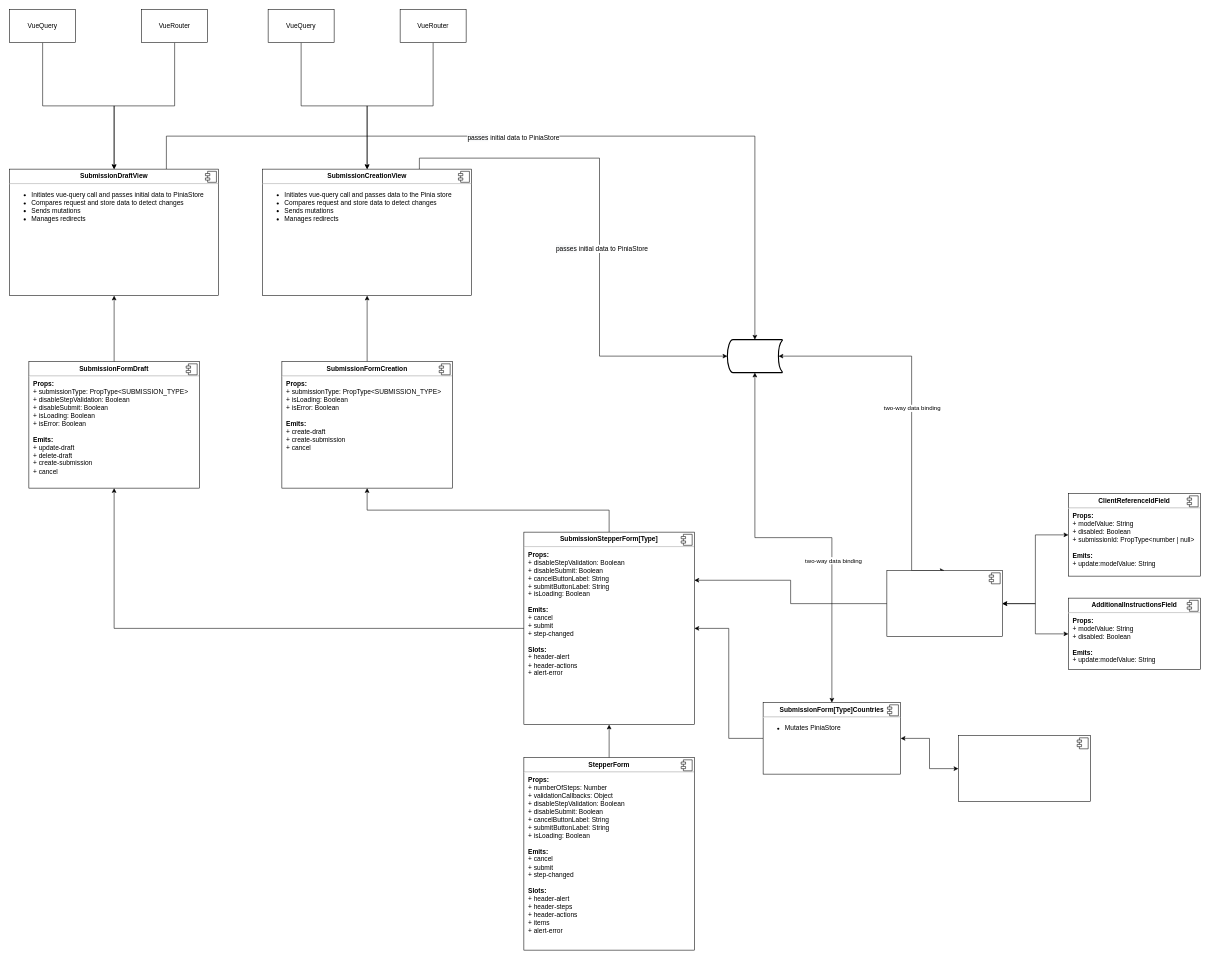
This 1210x960 diagram has some shape labels left out. The centre of each missing label's shape, as x and y in pixels:
"CountriesField Props: + modelValue: Object Emits: + update:modelValue: Object" goes at point 1024,768.
"PiniaStore" goes at point 755,356.
"SubmissionForm[Type]Info Mutates PiniaStore" goes at point 944,603.
